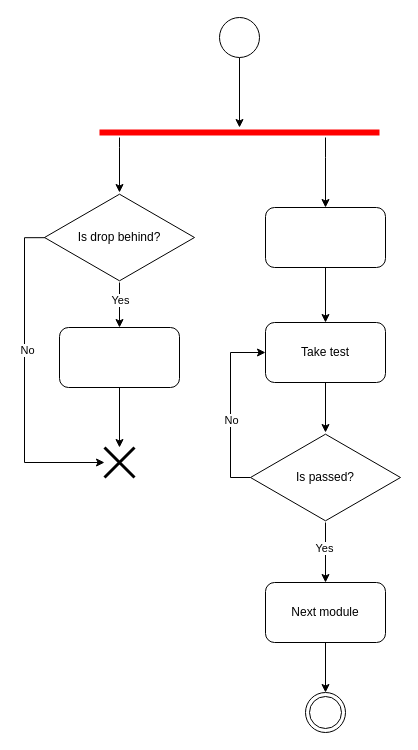
This 418x750 diagram has some shape labels left out. Each missing label, with the centre of its shape:
"Message" belongs at point 119,357.
"Study material" belongs at point 325,237.
